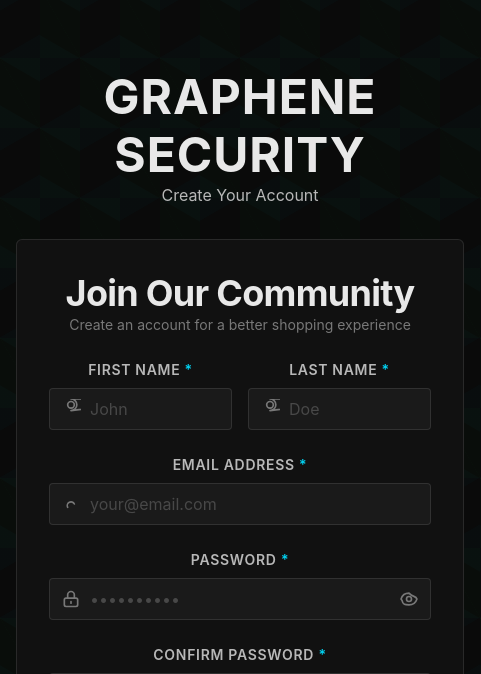
RegisterPage › Form Validation › should validate password confirmation match
In the password field labelled "Password *": (240, 599) [49,578,431,620], type "StrongPass123!"
(page scrolled)
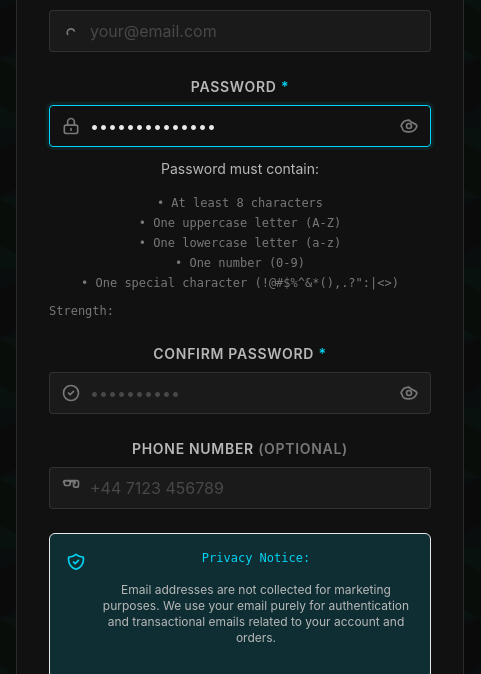
In the password field labelled "Confirm Password *": (240, 393) [49,372,431,414], type "DifferentPass123!"
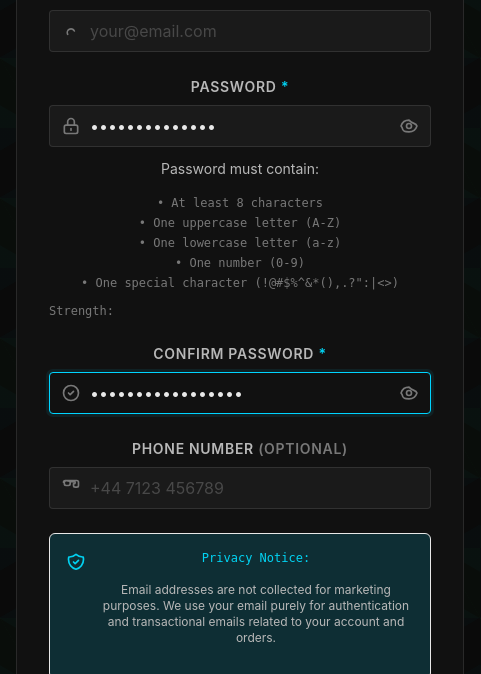
Press Tab
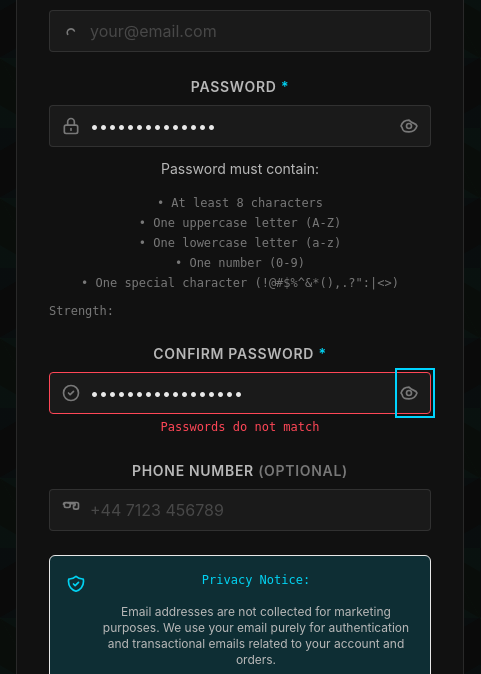
Now the text "Passwords do not match" is shown, box [160,420,320,434]
